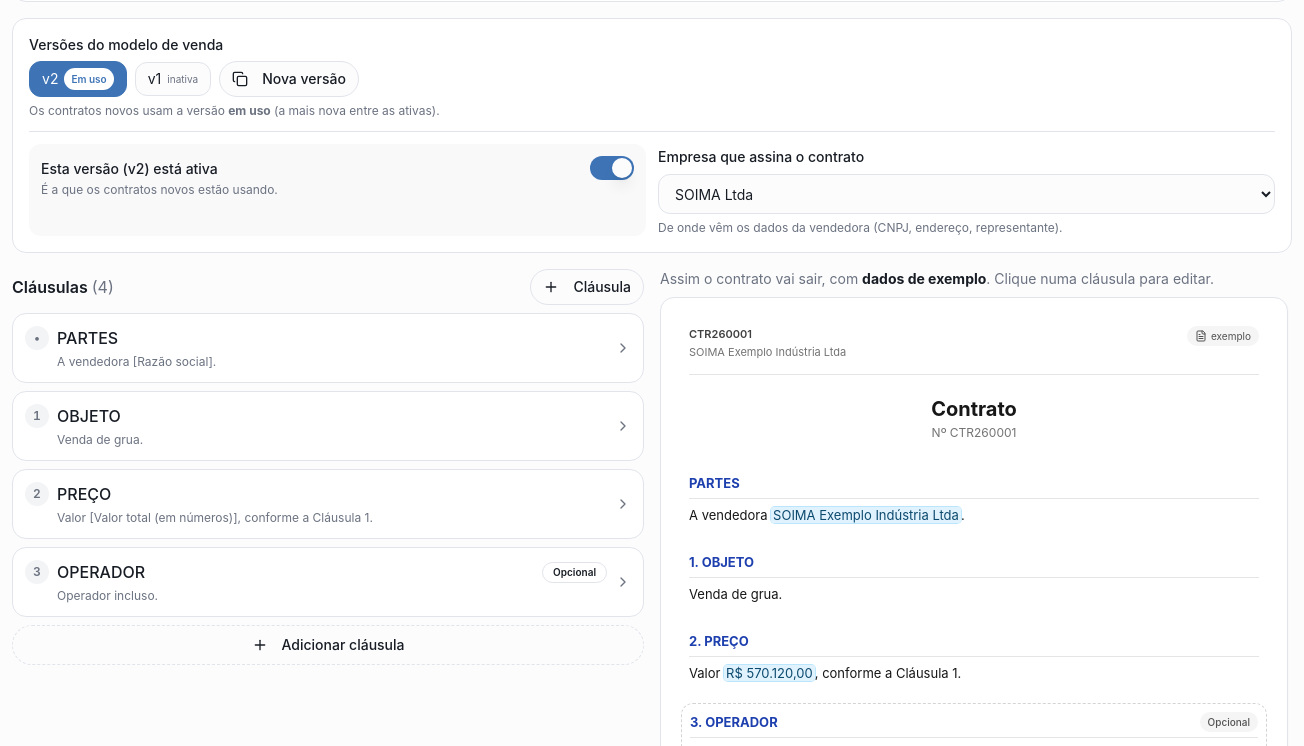
editor do modelo — rascunho guardado, versões e proteção › clicar na cláusula da visualização abre a edição dela
Expected: the heading "Cláusulas (4)" is shown, [12, 275, 114, 299]
Click the button with aria-label "Editar cláusula 2. PREÇO" at point(974, 644), box [681, 623, 1267, 699]
(page scrolled)
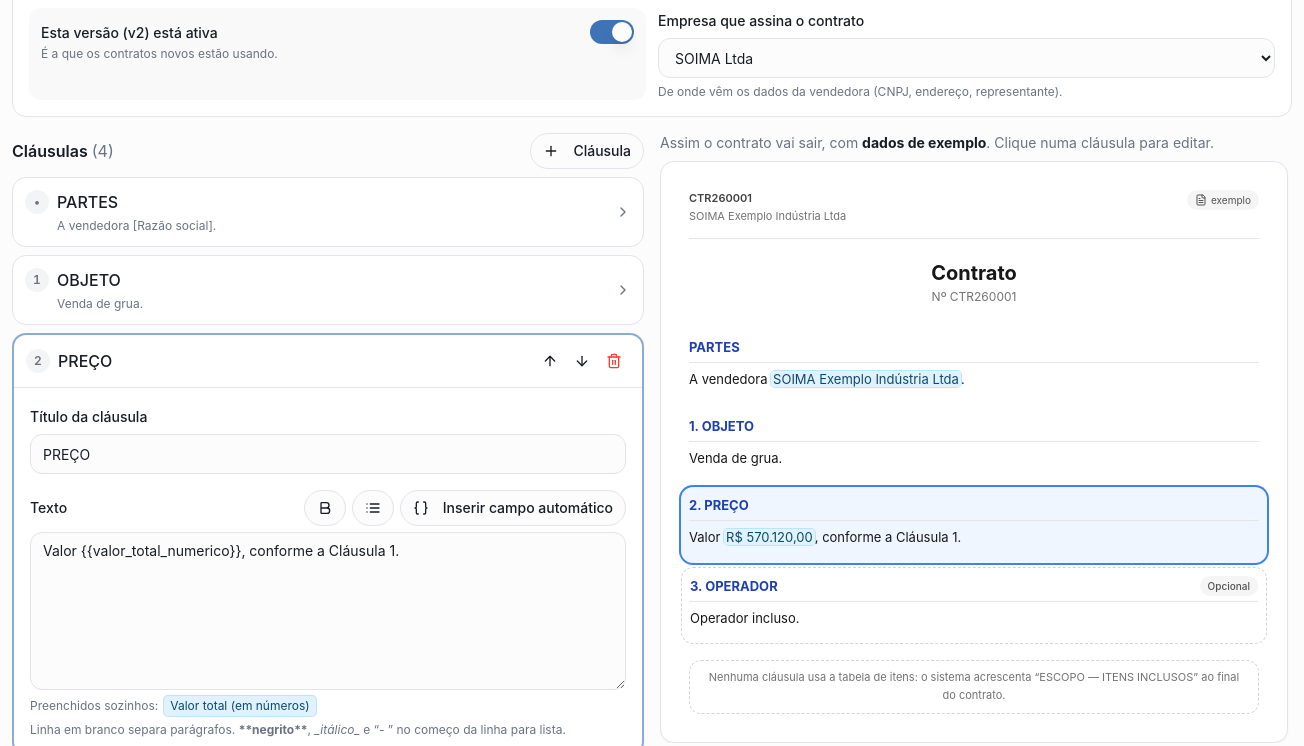
Expected: the field labelled "Título da cláusula" holds "PREÇO", [30, 434, 626, 474]
